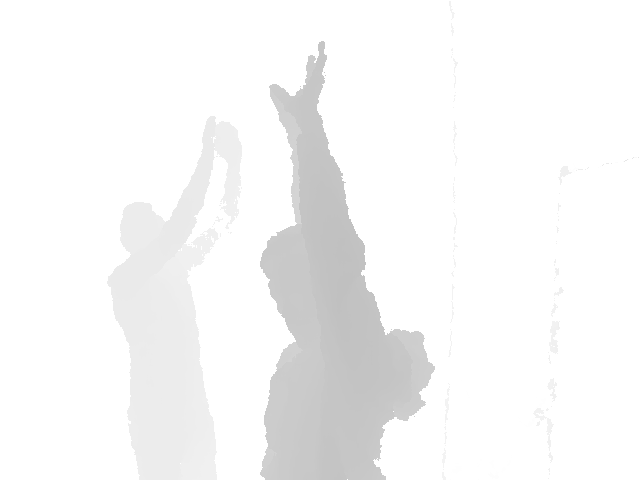hand: (269, 41, 326, 125), (214, 122, 244, 165), (203, 118, 218, 159)
head: (260, 224, 345, 351), (118, 202, 182, 264)
person: (259, 41, 436, 480), (105, 116, 244, 480)
